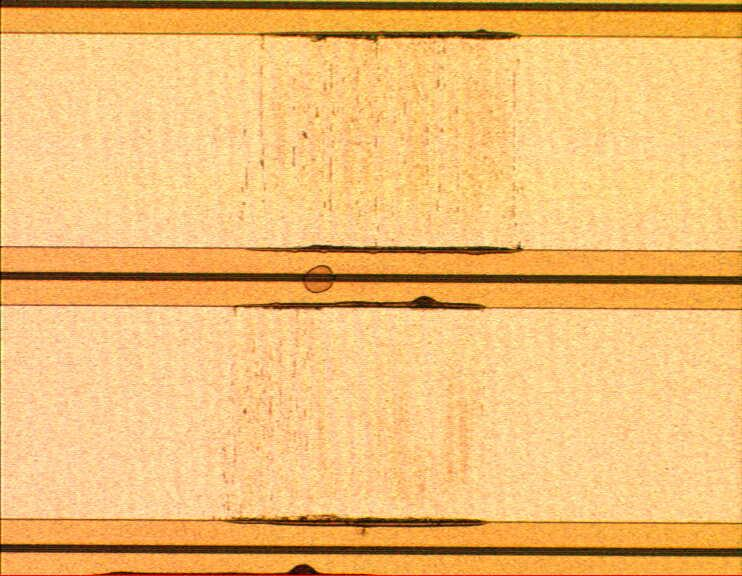SEZ BURNT: (220, 29, 534, 530)
